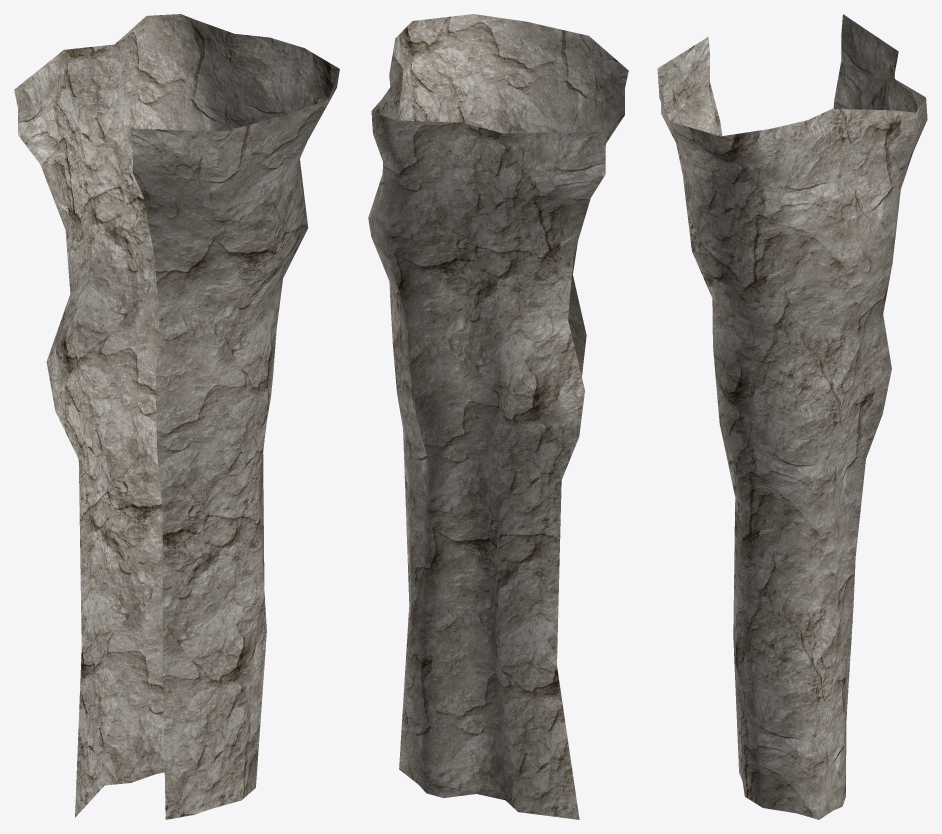
File: Cliff_02.fbx
The picture shows the model from 3 angles, left to right: view 1: azimuth 30°, elevation 25°; view 2: azimuth 150°, elevation 25°; view 3: azimuth 270°, elevation 25°; orthographic projection. The views are drawn at different scales.
Parts seen in each view (by area): view 1: Cliff_02; view 2: Cliff_02; view 3: Cliff_02.
Boxes of the visible parts, x1,y1,x2,y2 form: Cliff_02: (14,14,339,819); Cliff_02: (368,14,628,819); Cliff_02: (657,14,927,819).
Bounding box in the file's own units: 1413 × 3773 × 1290.
